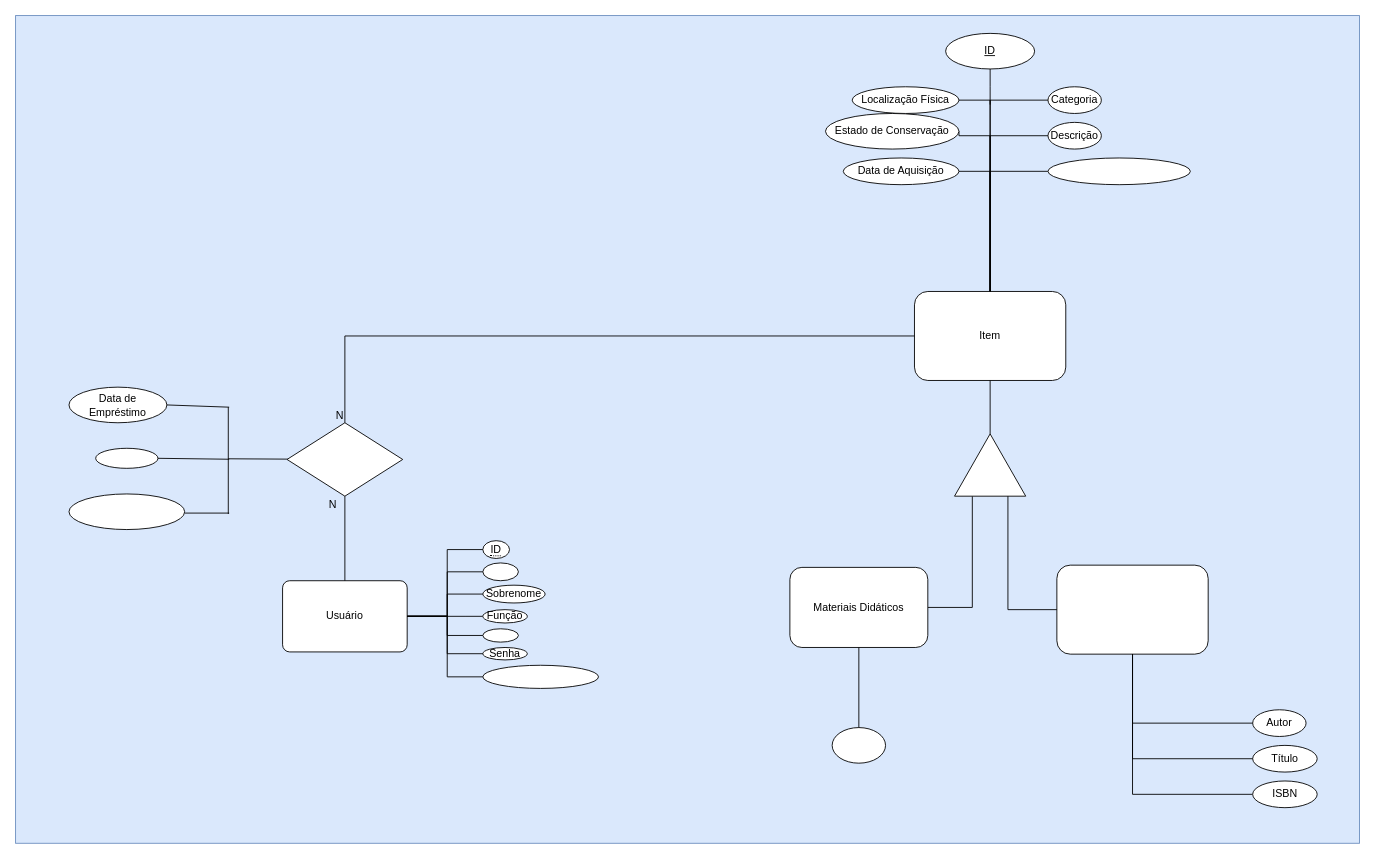
Some shapes in this 1375 by 859 pixel diagram are drawn without their labels. The shapes that lost their labels are listed below. From the top down, each one's box as (x1, y1, x2, y2) in pixels, then its label:
(1047, 157, 1190, 185): URI da imagem
(95, 447, 158, 468): Status
(286, 422, 403, 496): Empréstimo
(68, 493, 185, 530): Data de devolução prevista
(482, 562, 518, 581): Nome
(1056, 564, 1208, 654): Livro
(482, 628, 518, 642): Login
(482, 664, 599, 688): URI da foto do usuário
(831, 727, 886, 763): Número de Série
